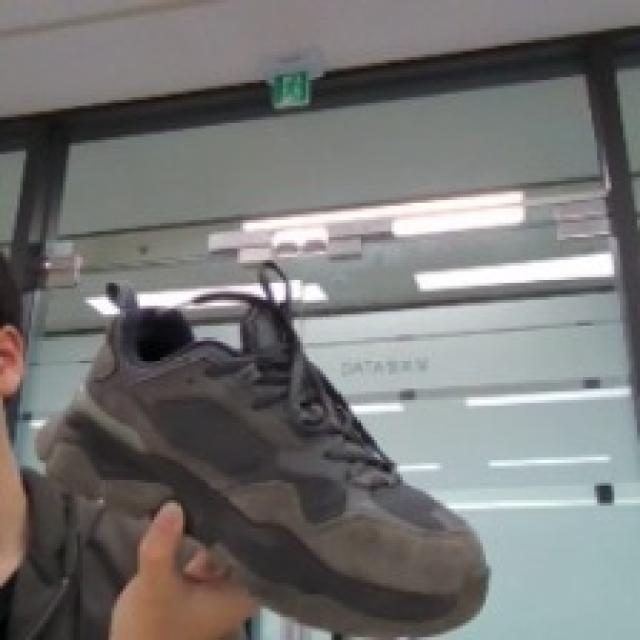shoes: (35, 257, 496, 640)
